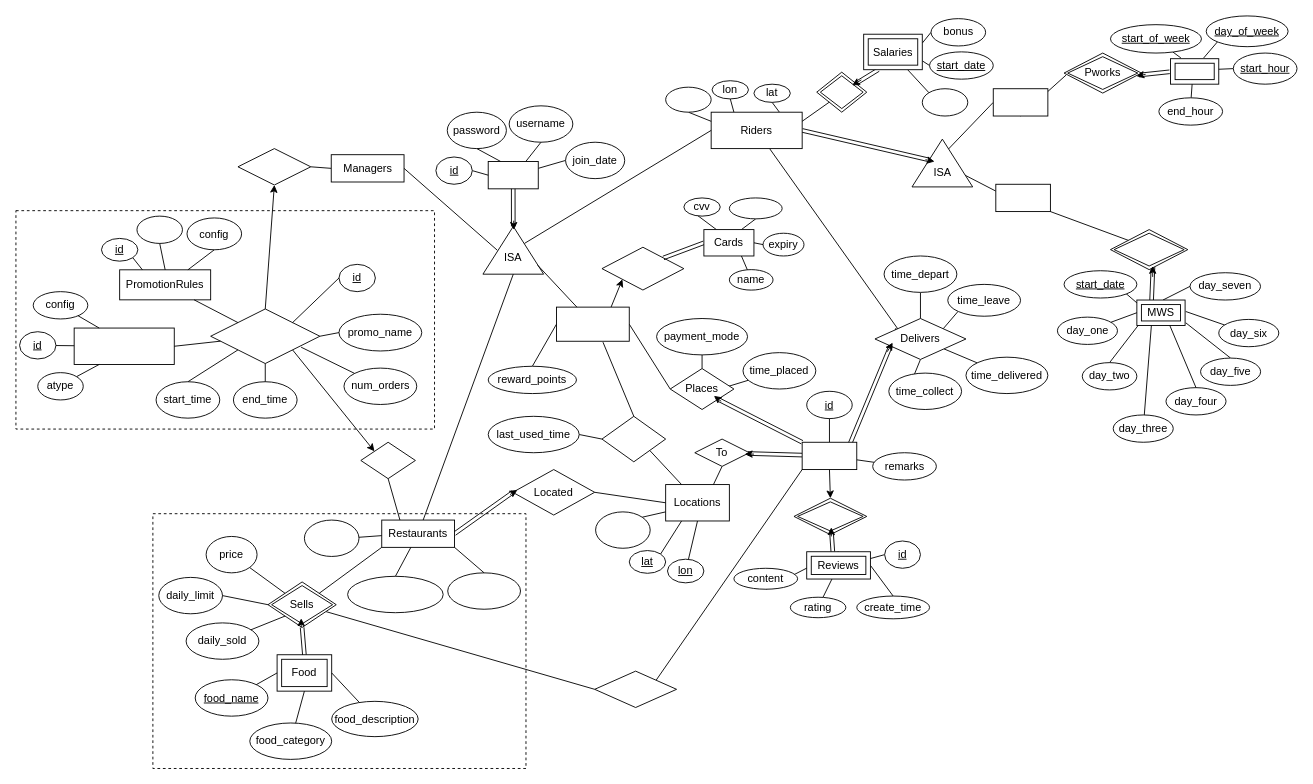
This 1313x784 diagram has some shape labels left out. Each missing label, with the centre of its shape:
address: point (622, 529)
base: point (944, 102)
Contains: point (635, 689)
Customers: point (592, 323)
description: point (484, 590)
Earns: point (841, 91)
Fulltime: point (1022, 197)
Fworks: point (1149, 249)
Gives: point (274, 166)
Have: point (830, 516)
mininum_spend: point (395, 594)
number: point (755, 208)
Orders: point (829, 455)
Parttime: point (1020, 102)
PromotionActions: point (123, 345)
Promotions: point (265, 336)
Registers: point (642, 268)
rname: point (331, 537)
rtype: point (159, 229)
Sets: point (387, 460)
type: point (688, 99)
Users: point (512, 175)
Uses: point (633, 438)
WWS: point (1194, 71)
